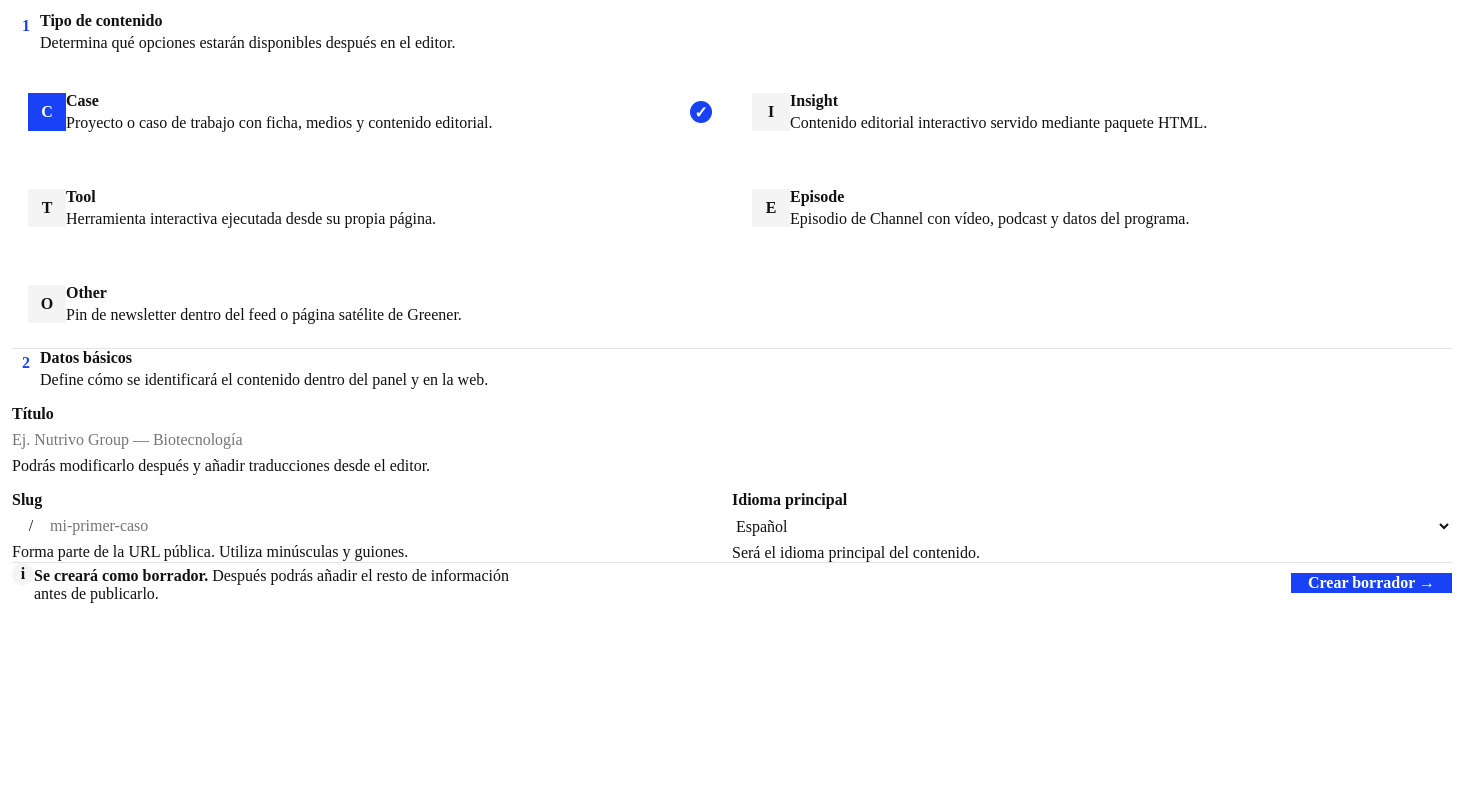
alta de contenido — Other (plan de other, §7.1) › al elegir Other aparecen los dos subtipos y la frecuencia con 100 por defecto y mínimo 25
Step 1. Click the radio button that starts with "Other" → (370, 304), box [12, 260, 728, 348]
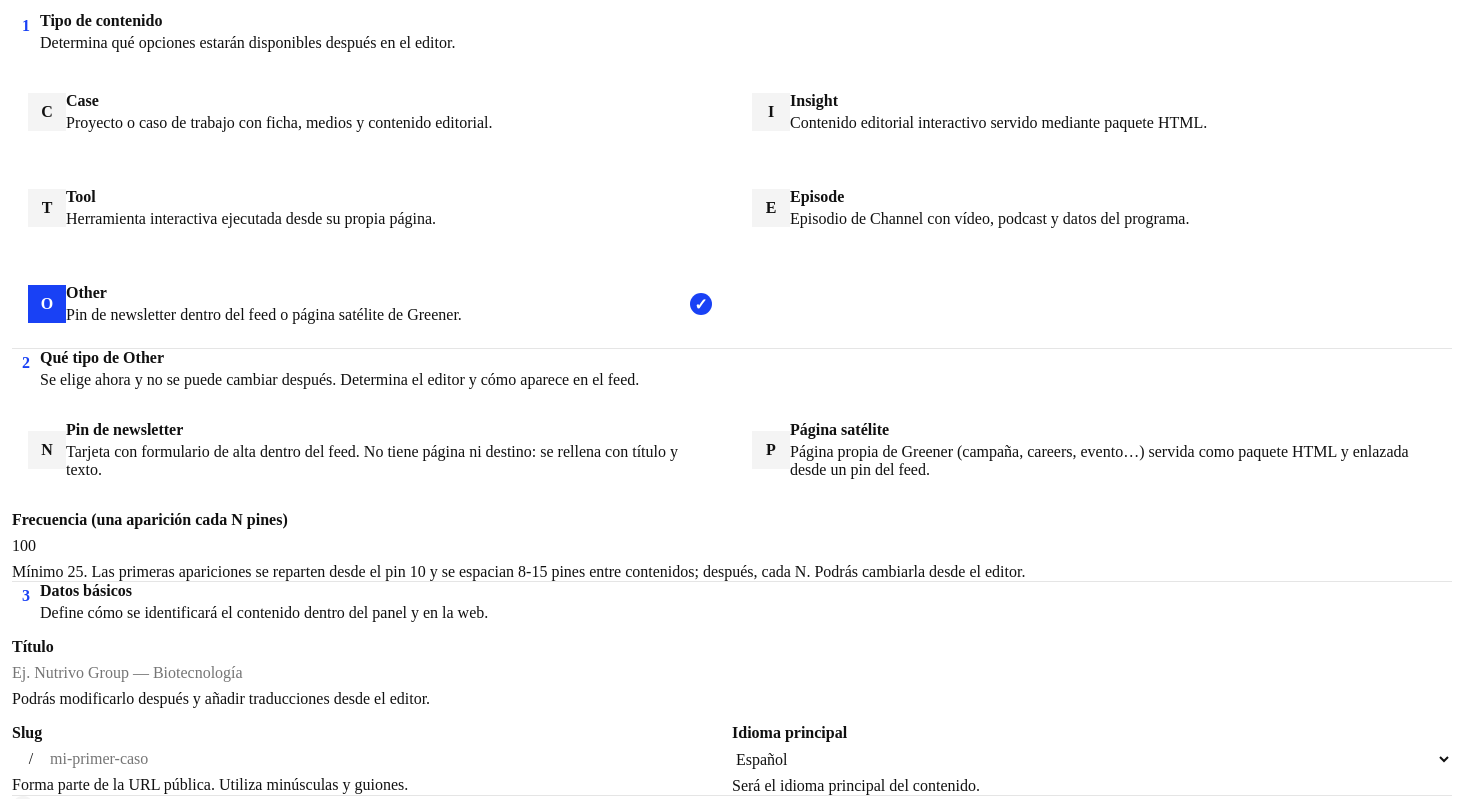
Now the number field labelled "Frecuencia (una aparición cada N pines)" holds "100", box [12, 537, 1452, 555]
